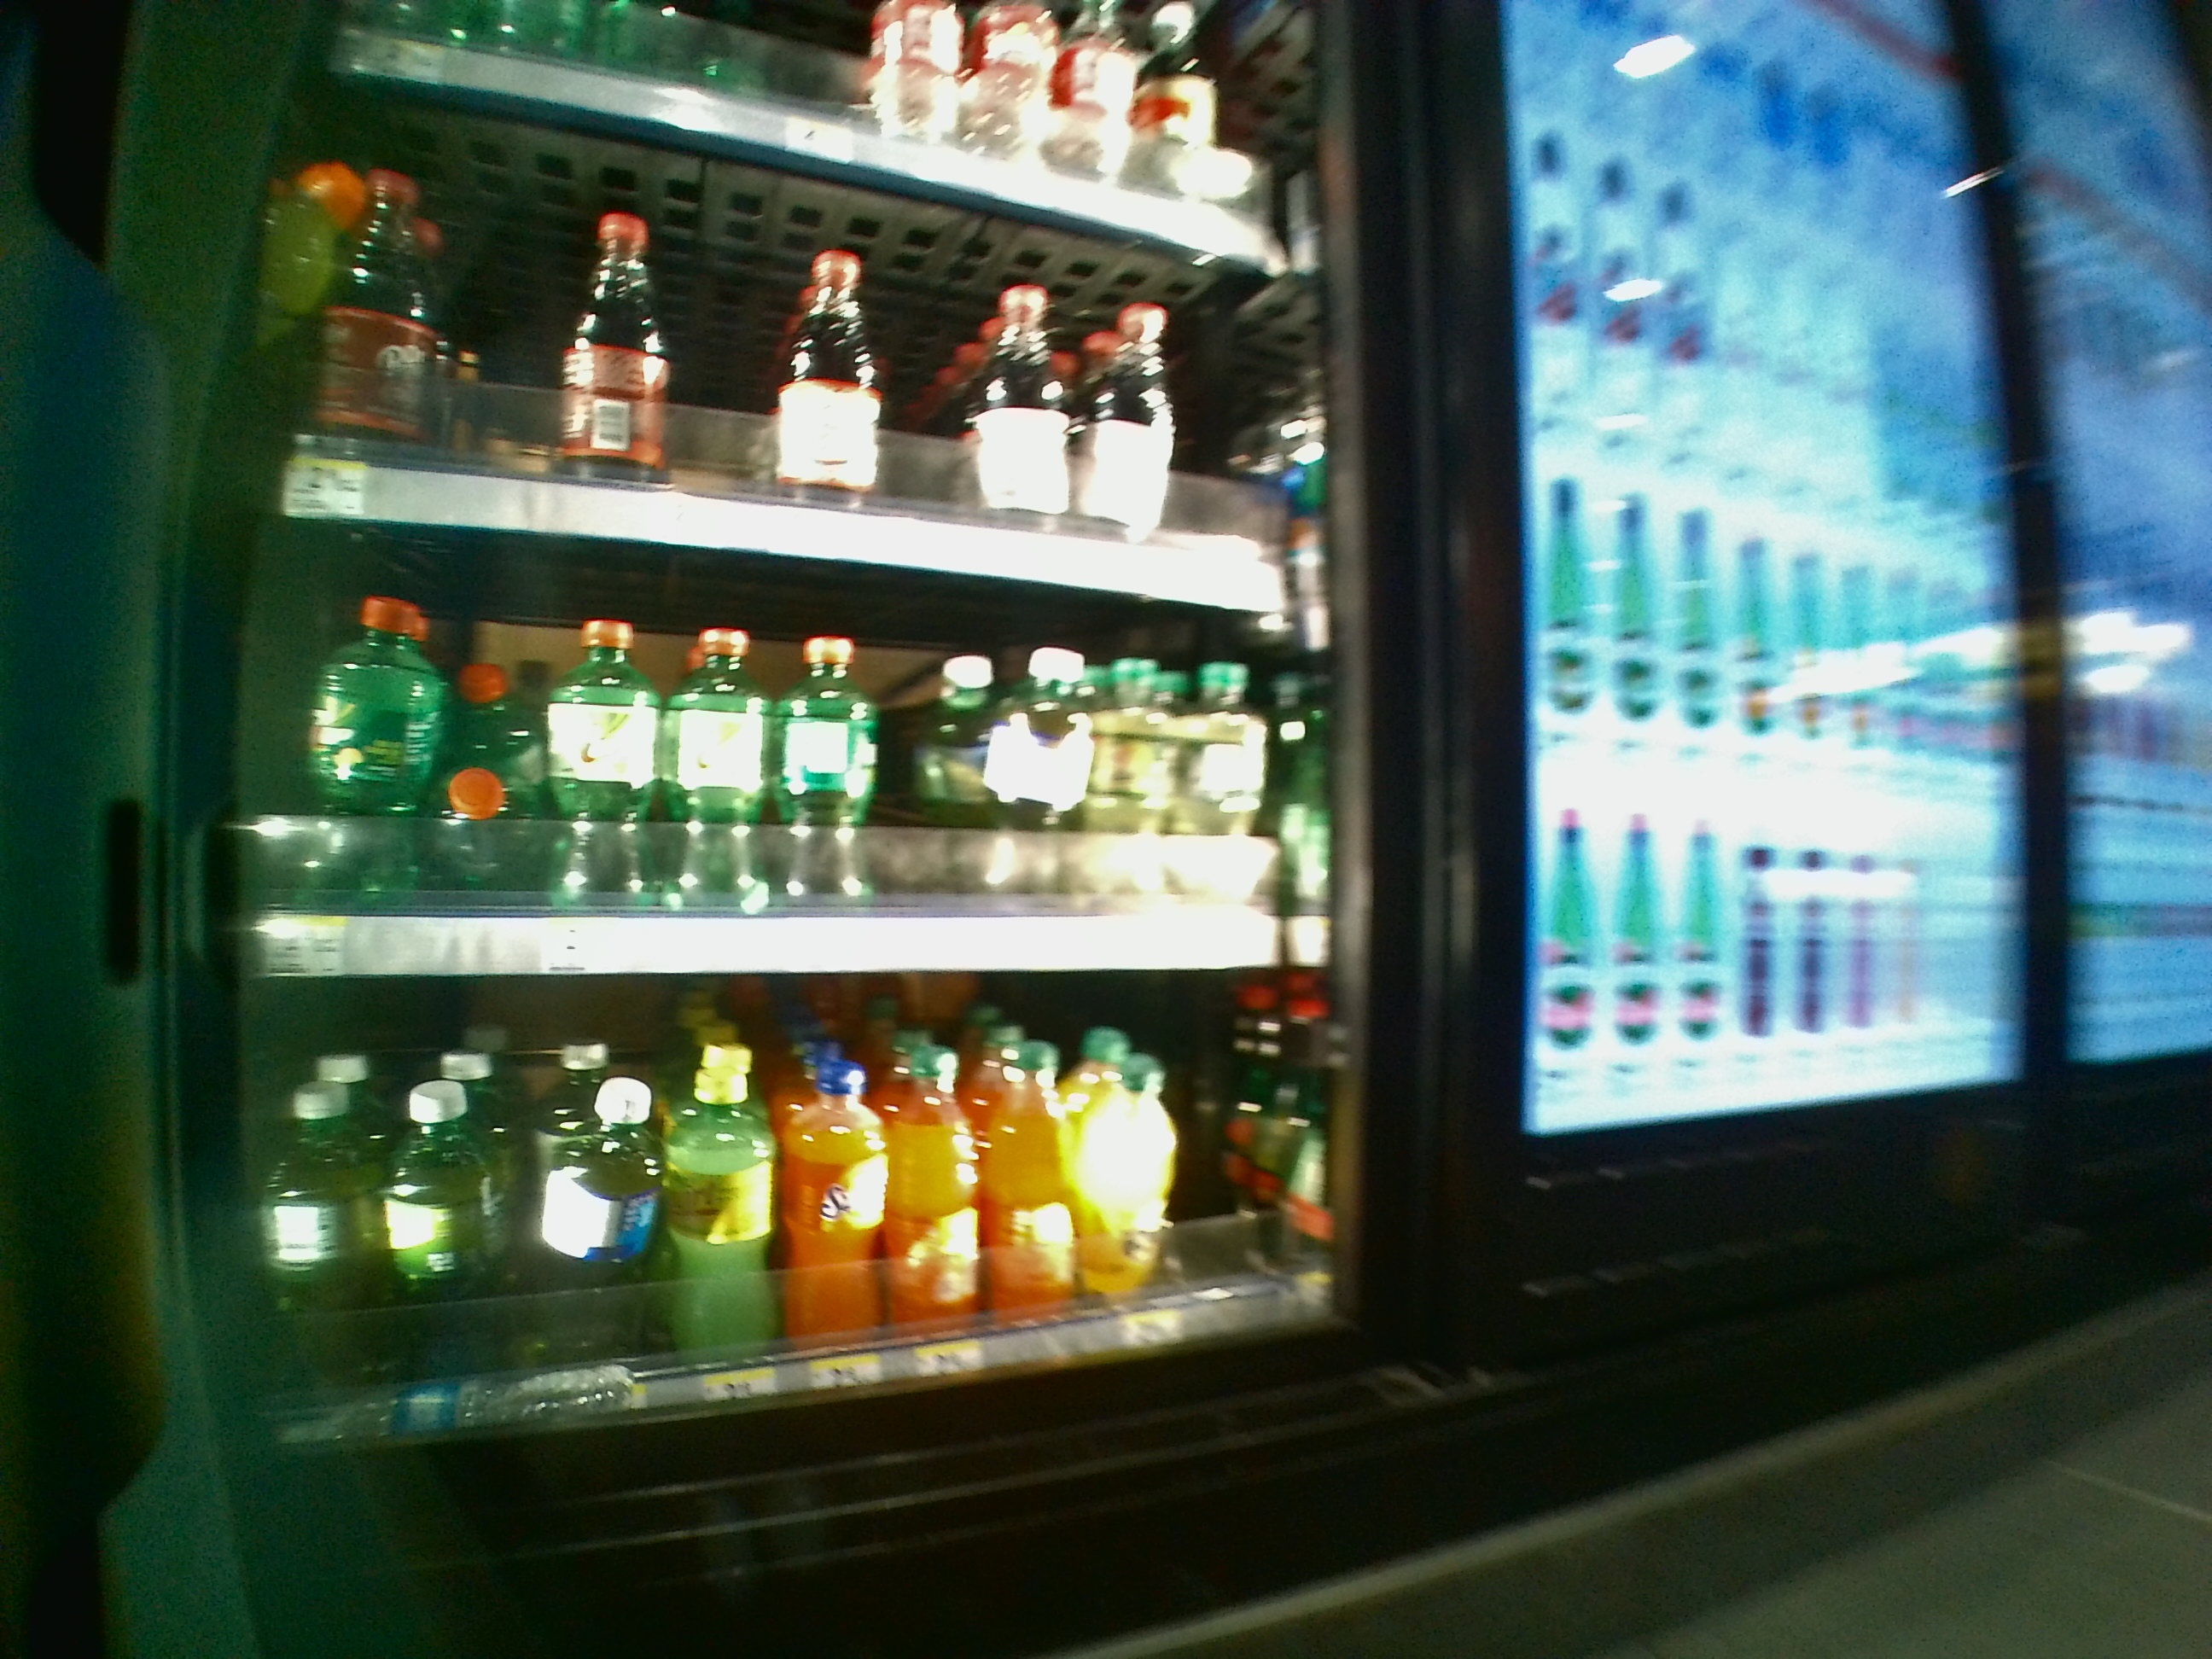shelf: (251, 967, 1332, 1410), (246, 533, 1332, 964)
